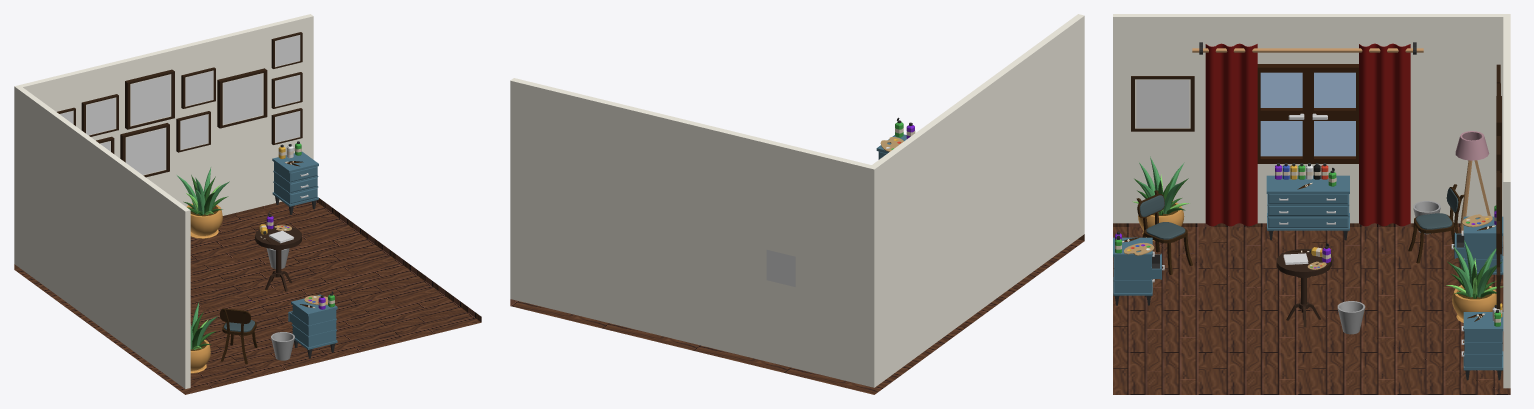
File: studio-transformed.glb
The picture shows the model from 3 angles, left to right: view 1: azimuth 30°, elevation 25°; view 2: azimuth 150°, elevation 25°; view 3: azimuth 270°, elevation 25°; orthographic projection. The views are drawn at different scales.
Parts seen in each view (by area): view 1: Plane.001, Plane, Cube.048, Cube.001, a8, a4, a5, Cube.045, Cube.020, Cylinder.012, a2, Cube.043_tablo_0.002 (+14 smaller); view 2: Plane.001, Plane, art1, Cube.048; view 3: Plane, Plane.001, Cube.023, Cube.022, Cube.024, Cube.005, Cube.048, avatar, Cube.001, Cube.007, Cube.045, Cube.020 (+12 smaller).
Boxes of the visible parts, <box> form: Plane.001: <box>14,14,313,388</box>; Plane: <box>14,198,481,394</box>; Cube.048: <box>288,291,337,358</box>; Cube.001: <box>272,151,318,214</box>; a8: <box>223,73,262,124</box>; a4: <box>131,75,170,125</box>; a5: <box>126,128,165,174</box>; Cube.045: <box>219,308,257,364</box>; Cube.020: <box>190,302,217,373</box>; Cylinder.012: <box>255,225,301,291</box>; a2: <box>86,98,115,135</box>; Cube.043_tablo_0.002: <box>217,68,267,128</box>; Plane.001: <box>510,14,1084,387</box>; Plane: <box>510,234,1084,394</box>; art1: <box>766,250,795,286</box>; Cube.048: <box>876,117,915,159</box>; Plane: <box>1113,223,1510,394</box>; Plane.001: <box>1113,14,1510,388</box>; Cube.023: <box>1257,64,1358,163</box>; Cube.022: <box>1205,43,1257,226</box>; Cube.024: <box>1359,43,1410,226</box>; Cube.005: <box>1266,175,1349,240</box>; Cube.048: <box>1113,231,1164,305</box>; avatar: <box>1136,80,1189,127</box>; Cube.001: <box>1461,312,1503,380</box>; Cube.007: <box>1451,216,1503,283</box>; Cube.045: <box>1136,190,1192,274</box>; Cube.020: <box>1132,156,1189,241</box>.
Bounding box in the file's own units: 3.76 × 2.22 × 3.85.
51 materials, 1 textured.
